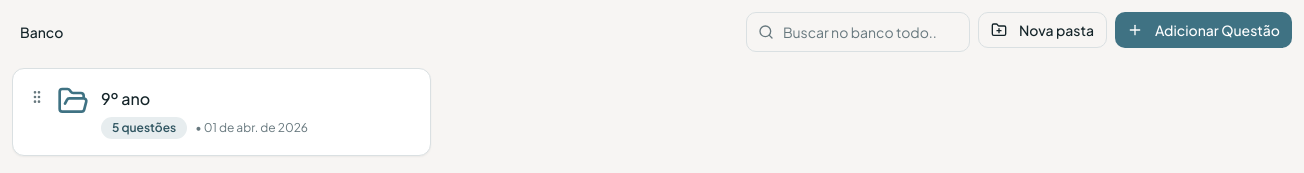
Scenario: QuestionBankFolderView — fluxo de navegação › navega para nível de matérias ao clicar em uma série
expect the text "9º ano" is shown: met, box [101,87,150,111]
Step 1. Click the button with aria-label "Abrir pasta 9º ano" → click(73, 101), box [12,68,431,156]
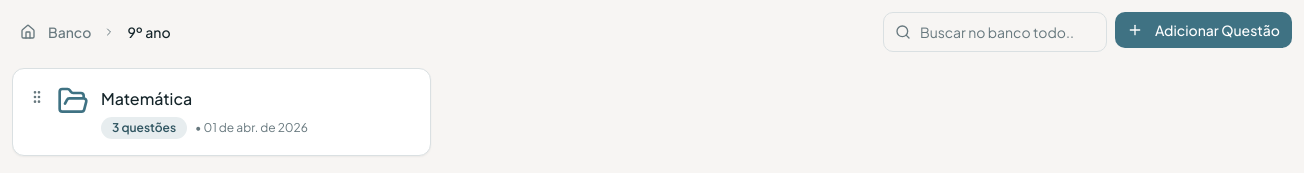
expect the text "Matemática" is shown: met, box [101,87,192,111]
expect the text "9º ano" is shown: met, box [128,23,171,41]
